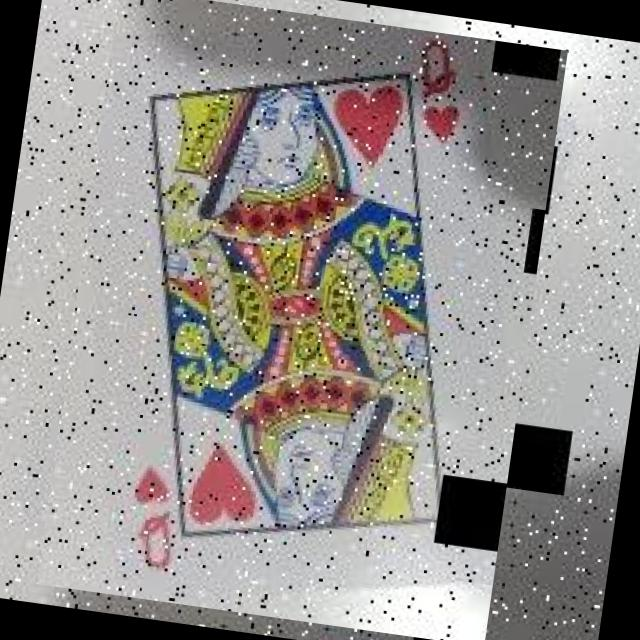Queen of hearts: (110, 34, 493, 597)
